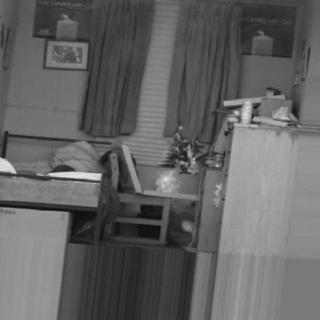Fire: (154, 116, 206, 200)
